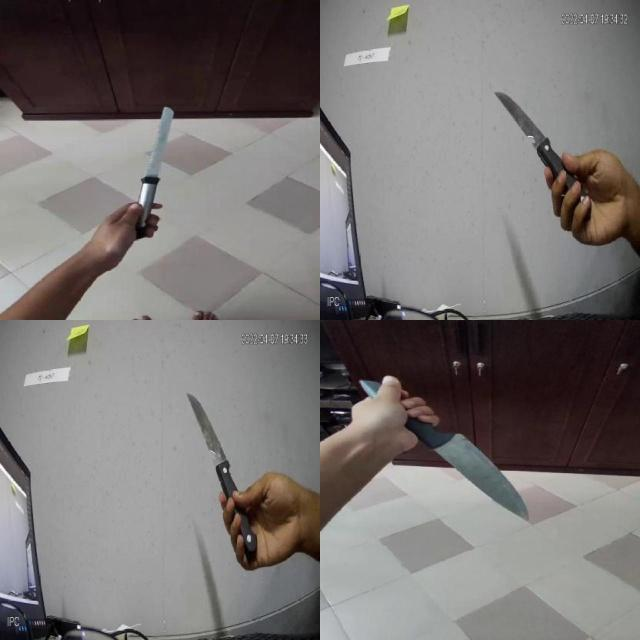-: (419, 426, 567, 524), (492, 83, 592, 219), (186, 393, 243, 512), (135, 103, 181, 201)
